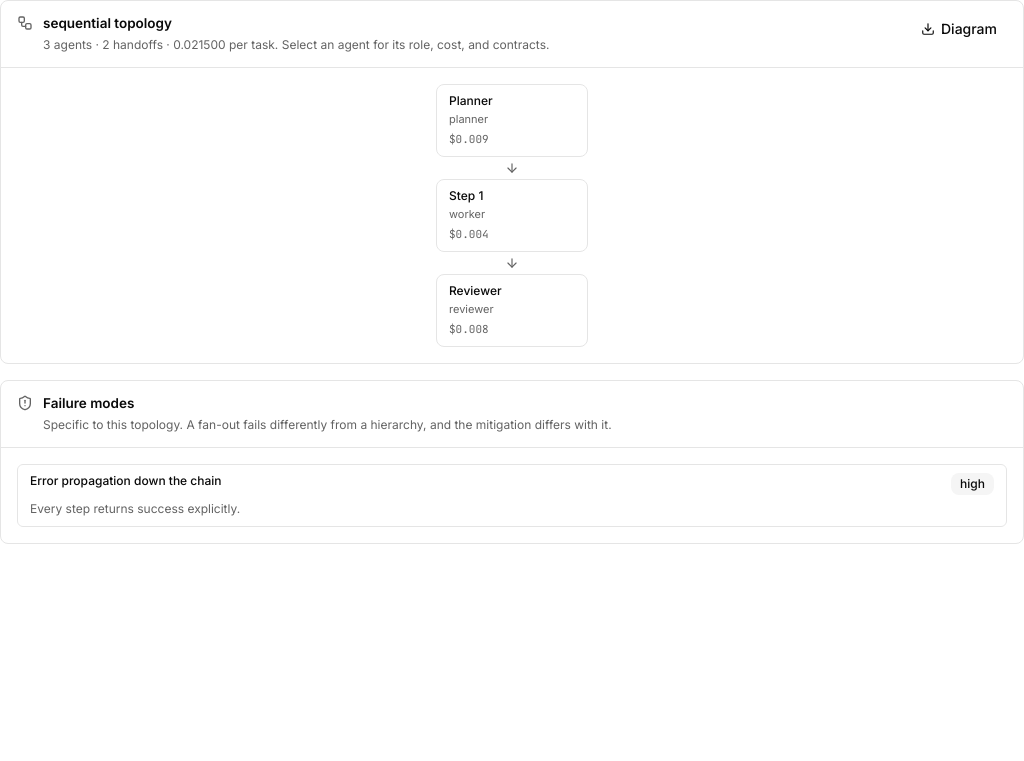
Scenario: WorkflowDag › opens role, cost, and both edge contracts when a node is selected
Click the button "Step 1 worker $0.004".
click(512, 215)  # box [436,179,588,252]
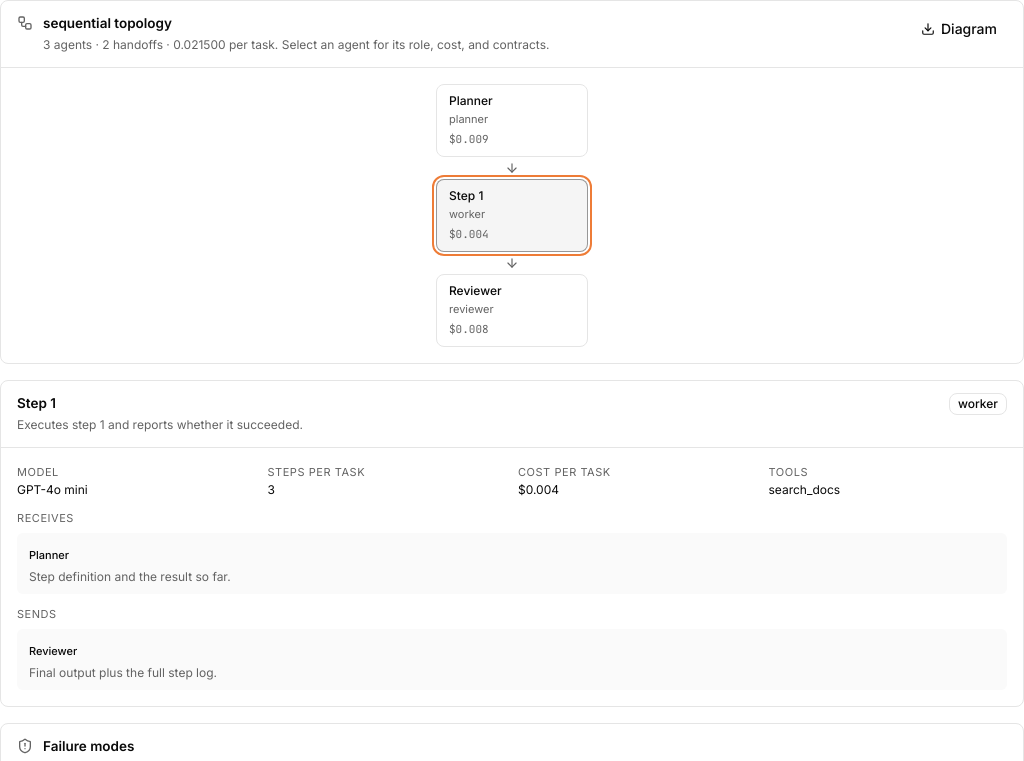
Check: the text "Executes step 1 and reports whether it succeeded." is shown, box [17,415,303,434]
Check: the text "GPT-4o mini" is shown, box [17,482,88,497]
Check: the text "Step definition and the result so far." is shown, box [29,568,231,584]
